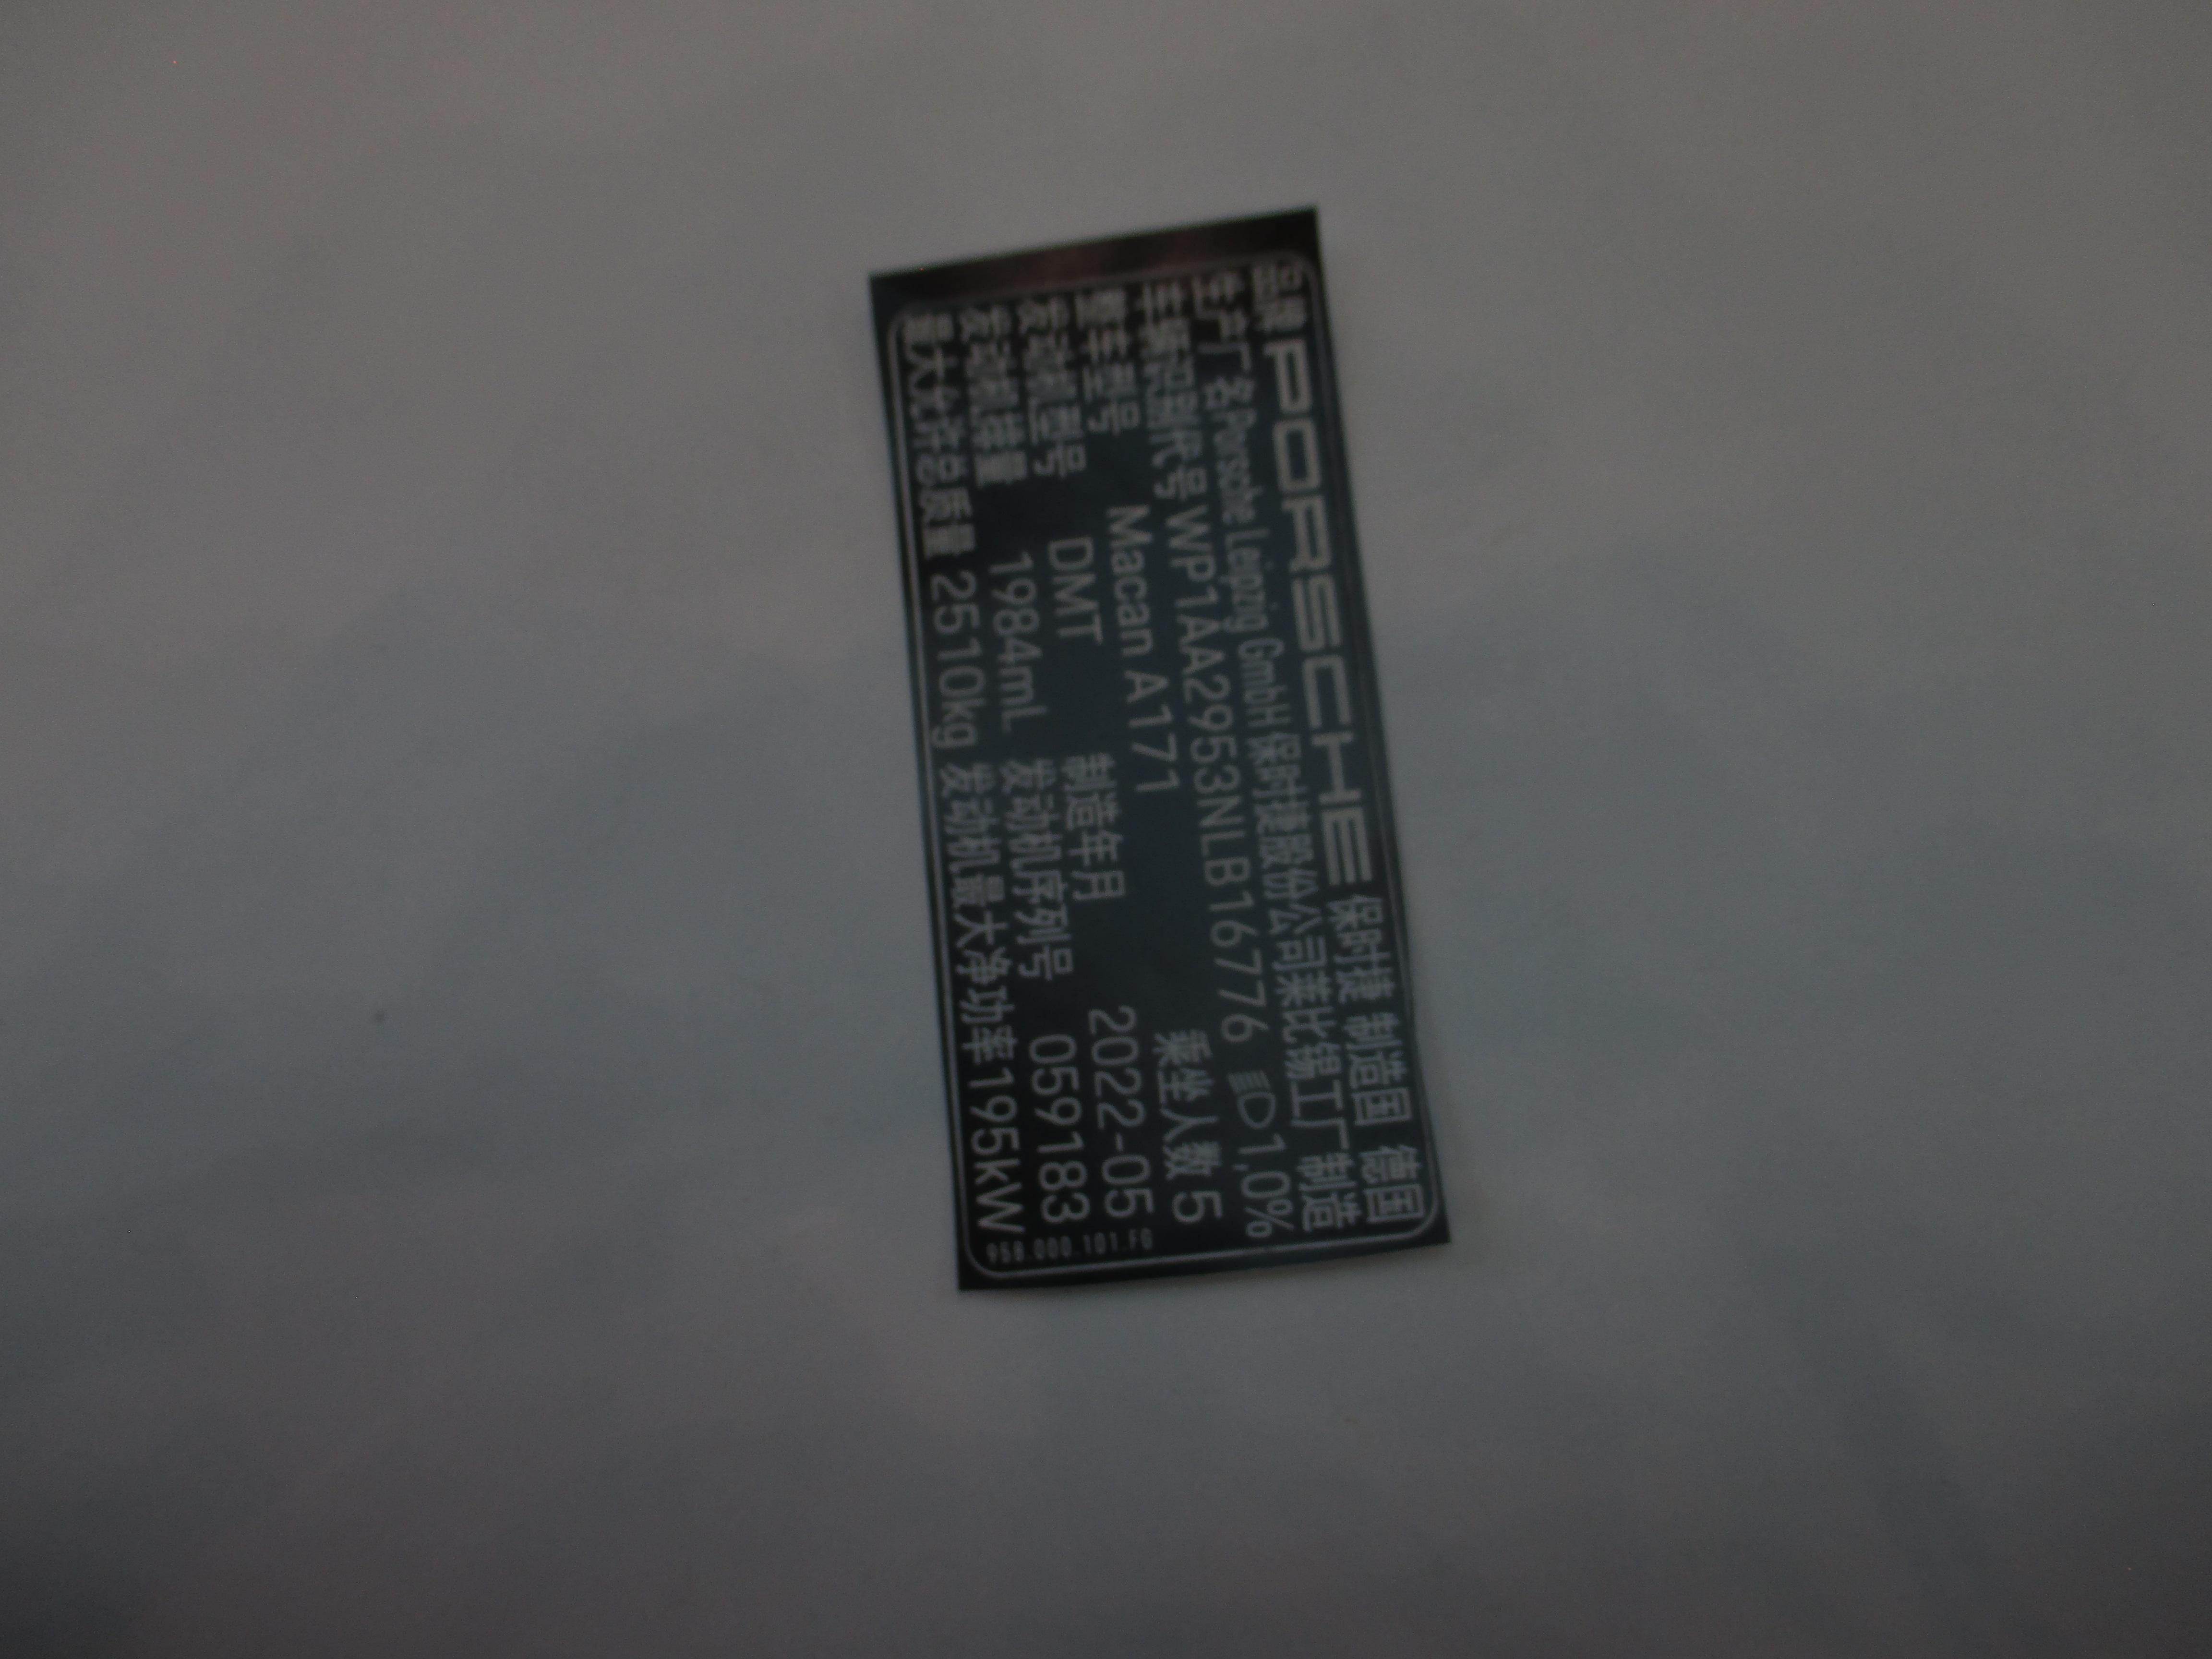Sign: (888, 258, 1442, 1276)
